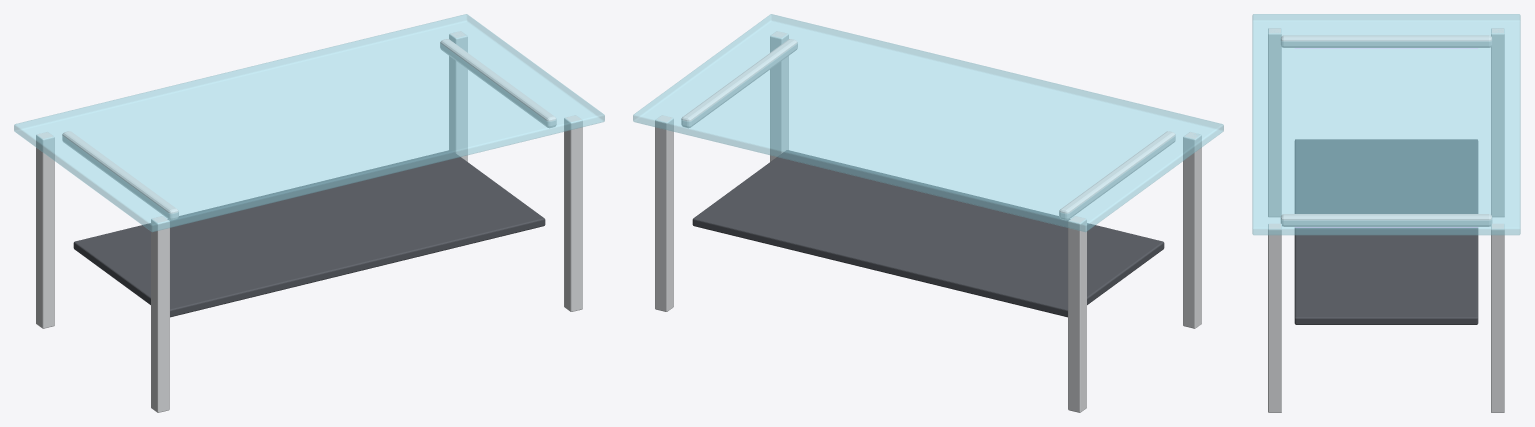
The model's file is dining_table_glass_top.glb.
3 views of the same model, side by side, from view 1: azimuth 30°, elevation 25°; view 2: azimuth 150°, elevation 25°; view 3: azimuth 270°, elevation 25° (orthographic). The views are drawn at different scales.
Visible parts, largest first — view 1: GD_dining_table_glass_top__m1, GD_dining_table_glass_top__m2, GD_dining_table_glass_top__m0; view 2: GD_dining_table_glass_top__m1, GD_dining_table_glass_top__m2, GD_dining_table_glass_top__m0; view 3: GD_dining_table_glass_top__m1, GD_dining_table_glass_top__m2, GD_dining_table_glass_top__m0, GD_dining_table_glass_top__m3.
Part boxes in pixels (x1,y1,x2,y2): GD_dining_table_glass_top__m1: (14,14,604,232); GD_dining_table_glass_top__m2: (73,150,545,317); GD_dining_table_glass_top__m0: (36,31,582,412); GD_dining_table_glass_top__m1: (633,14,1223,232); GD_dining_table_glass_top__m2: (692,150,1164,317); GD_dining_table_glass_top__m0: (655,31,1201,412); GD_dining_table_glass_top__m1: (1252,14,1520,235); GD_dining_table_glass_top__m2: (1294,139,1478,324); GD_dining_table_glass_top__m0: (1268,28,1504,412); GD_dining_table_glass_top__m3: (1295,48,1477,227).
Bounding box in the file's own units: 1.8 × 0.75 × 0.95.
